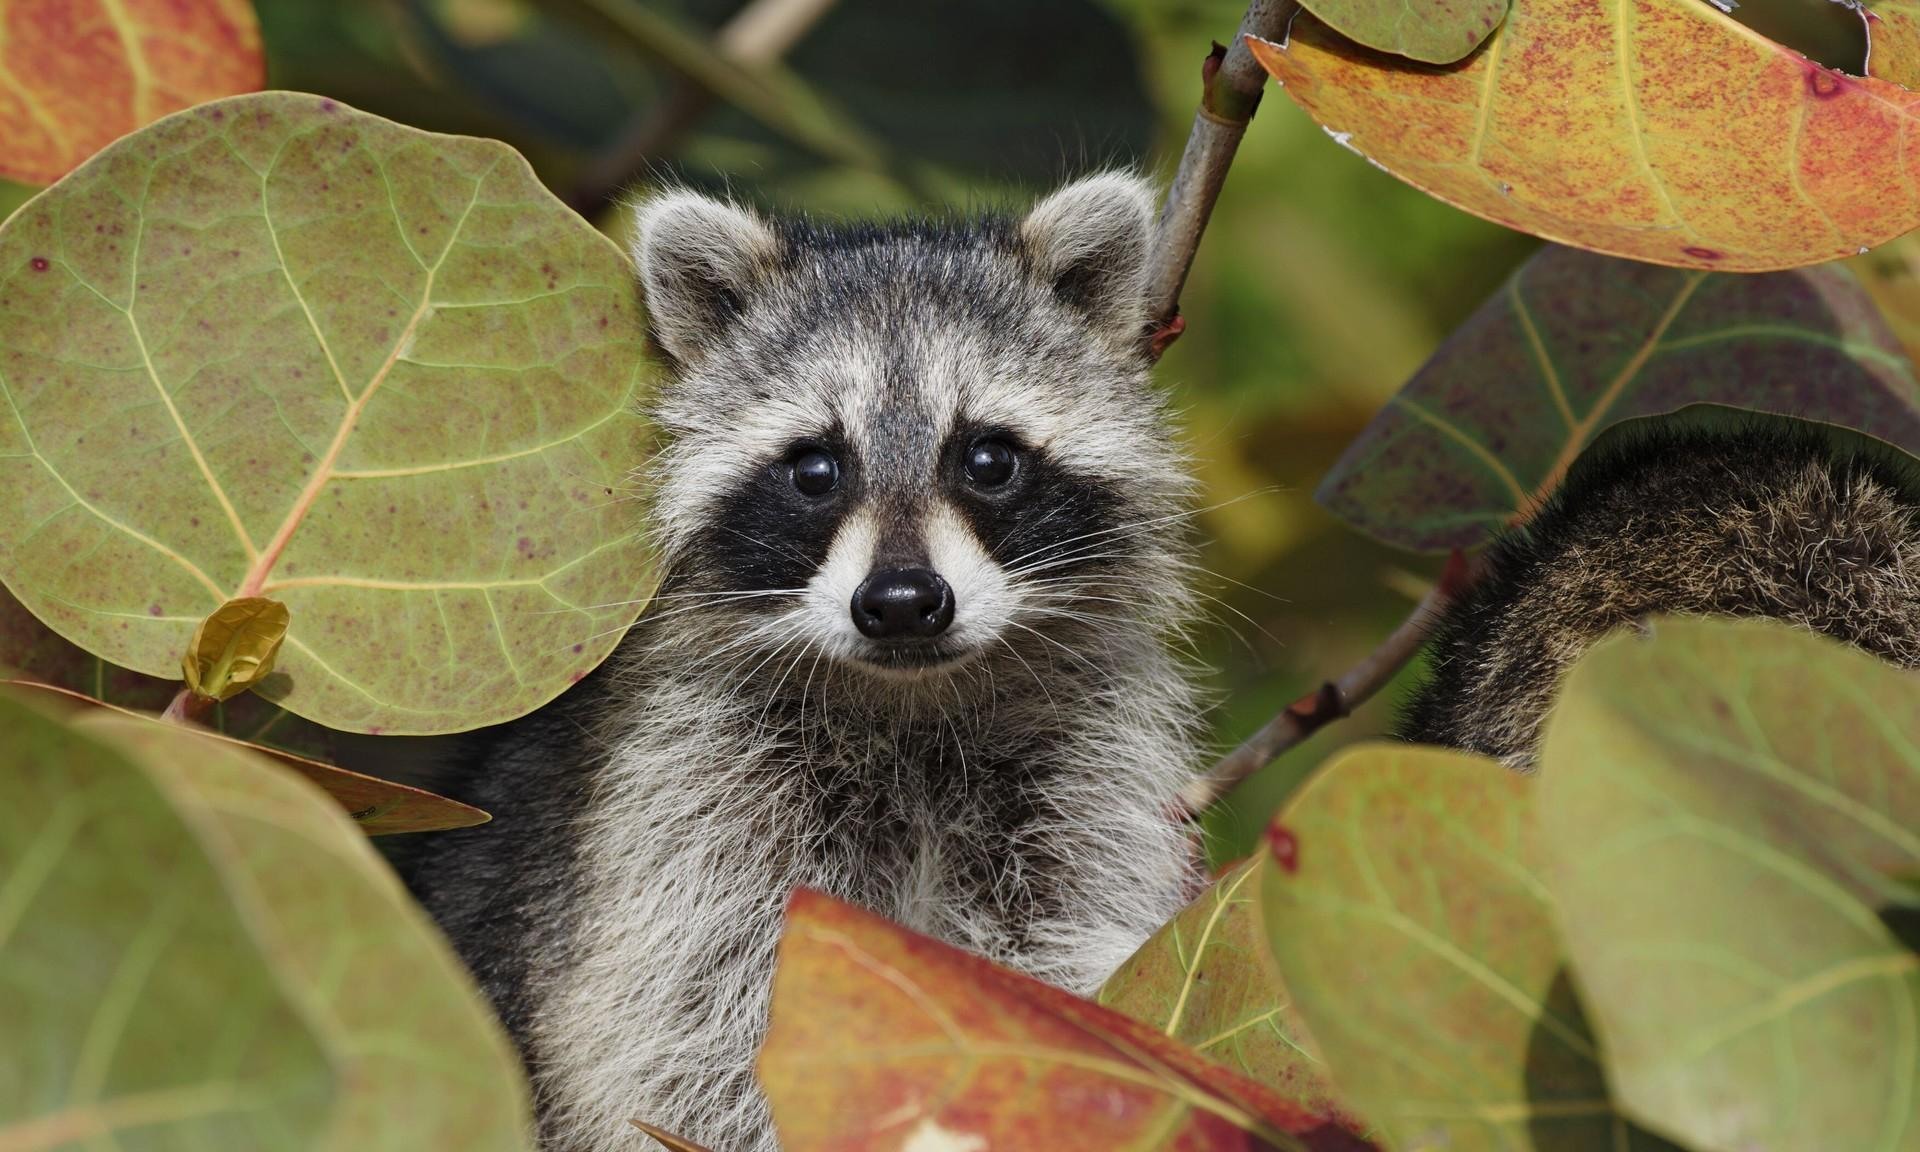raccoon: (427, 167, 1226, 1152)
